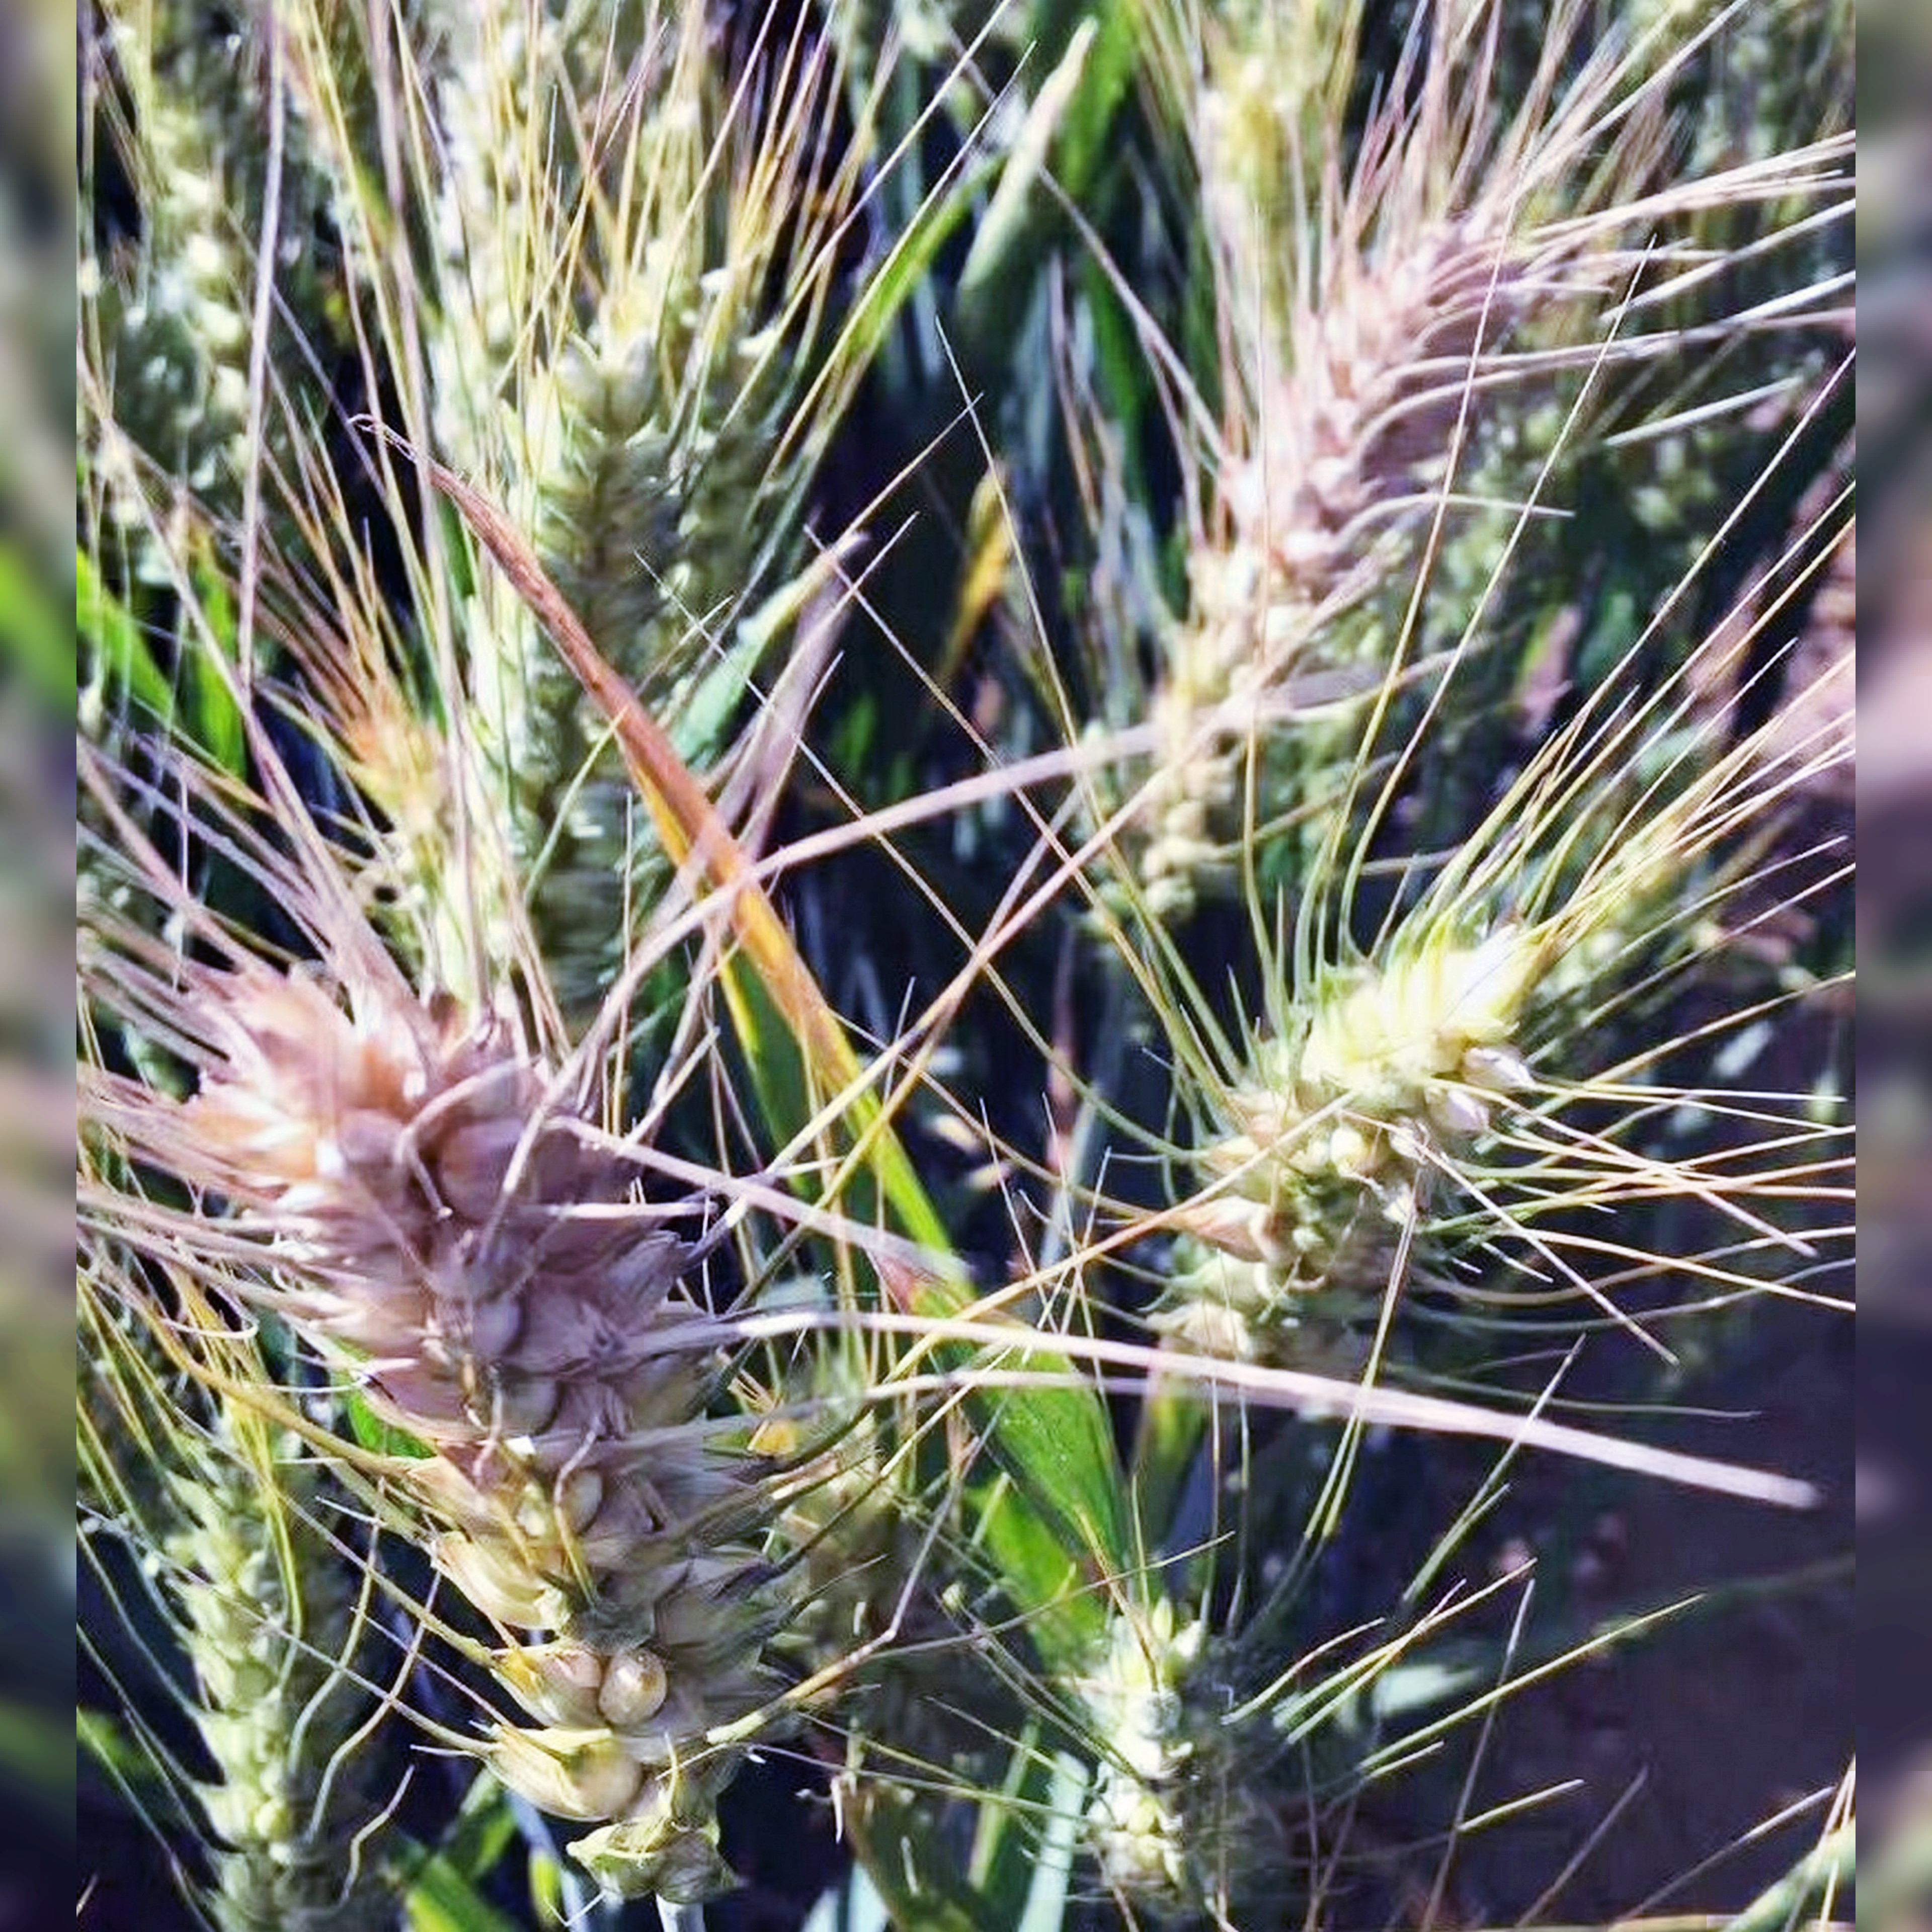Wheat scab: (173, 957, 846, 1838)
